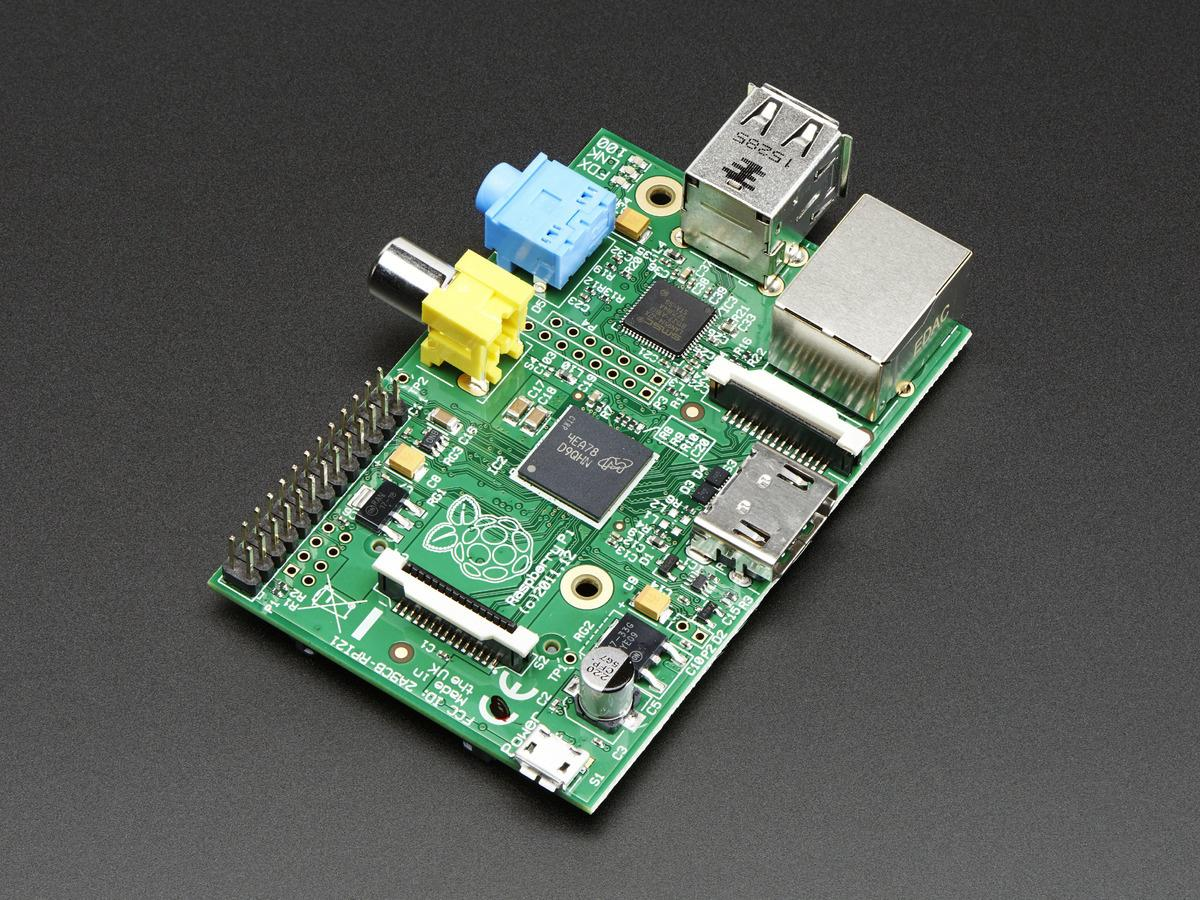audiojack: (365, 227, 537, 384)
bchi: (508, 404, 662, 519)
gpio: (221, 375, 413, 593)
